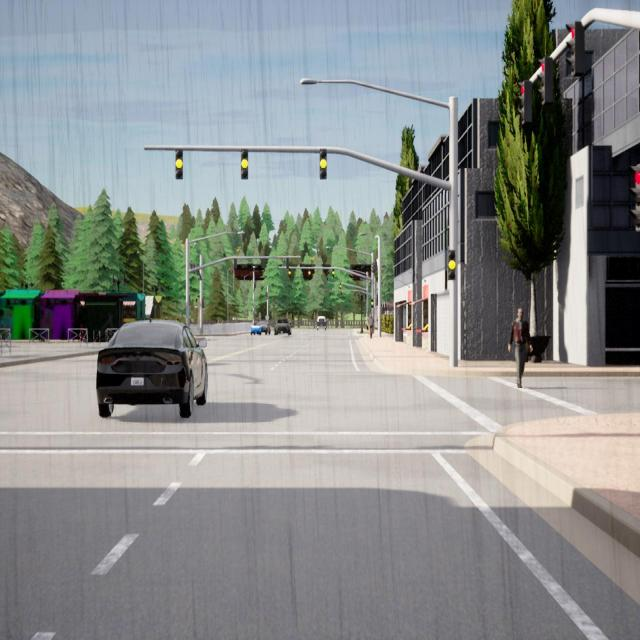Pedestrian: (508, 308, 530, 388), (369, 314, 374, 339)
Traffic_Signs: (265, 316, 269, 319)
Vehicle: (97, 320, 207, 417), (274, 319, 291, 335), (256, 320, 270, 334), (317, 316, 326, 331), (251, 325, 261, 335)
traffic_light: (566, 22, 584, 76), (538, 58, 554, 104), (630, 164, 640, 232), (518, 81, 532, 124), (175, 150, 183, 179), (448, 250, 455, 280), (320, 149, 327, 179), (241, 149, 248, 179), (193, 264, 196, 274), (371, 299, 374, 308), (234, 259, 237, 268), (308, 269, 311, 277), (288, 269, 291, 277), (286, 258, 288, 268), (189, 295, 191, 305), (202, 298, 204, 308), (372, 263, 374, 273), (376, 295, 378, 305), (262, 259, 264, 268), (190, 264, 192, 273), (332, 269, 334, 277), (339, 283, 341, 289), (254, 282, 256, 288), (329, 290, 331, 295), (354, 291, 356, 296), (266, 292, 268, 297), (375, 263, 376, 271), (197, 270, 198, 275), (341, 291, 342, 295)
